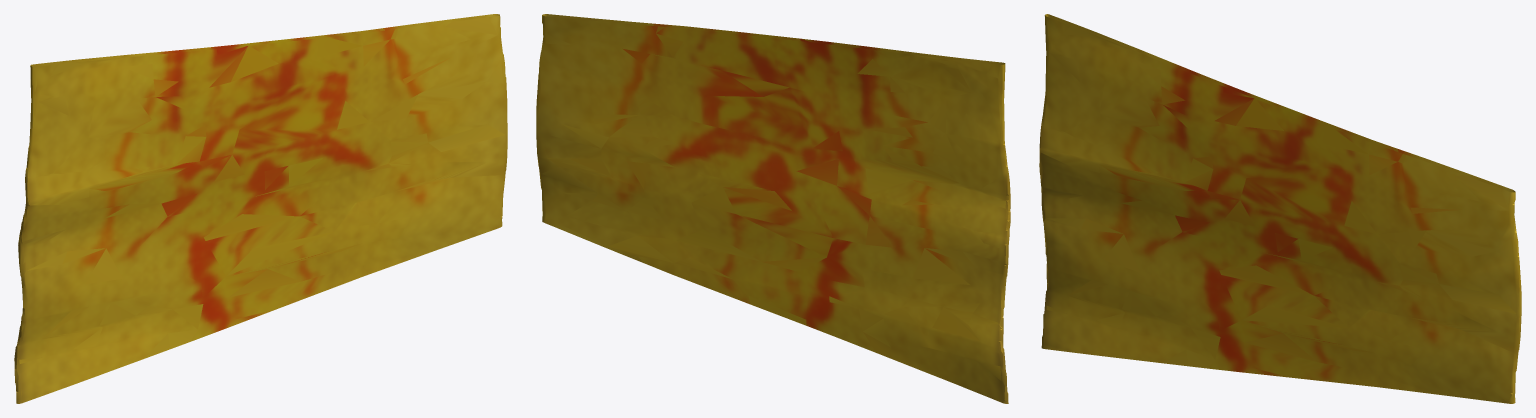
The model's file is fragment_1.fbx.
3 renders of one model, left to right at view 1: azimuth 30°, elevation 25°; view 2: azimuth 150°, elevation 25°; view 3: azimuth 330°, elevation 25°, orthographic.
Visible parts, largest first — view 1: fragment_1; view 2: fragment_1; view 3: fragment_1.
Boxes of the visible parts, bbox=[...] form: fragment_1: bbox=[14, 14, 507, 403]; fragment_1: bbox=[536, 14, 1010, 403]; fragment_1: bbox=[1039, 14, 1521, 403].
Size of the model in its own units: 7.41 by 4.95 by 0.3714.
Materials: 1 (1 with a texture image).
